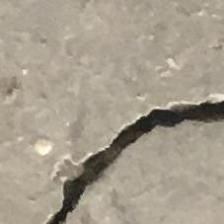Crack: (49, 84, 224, 224)
